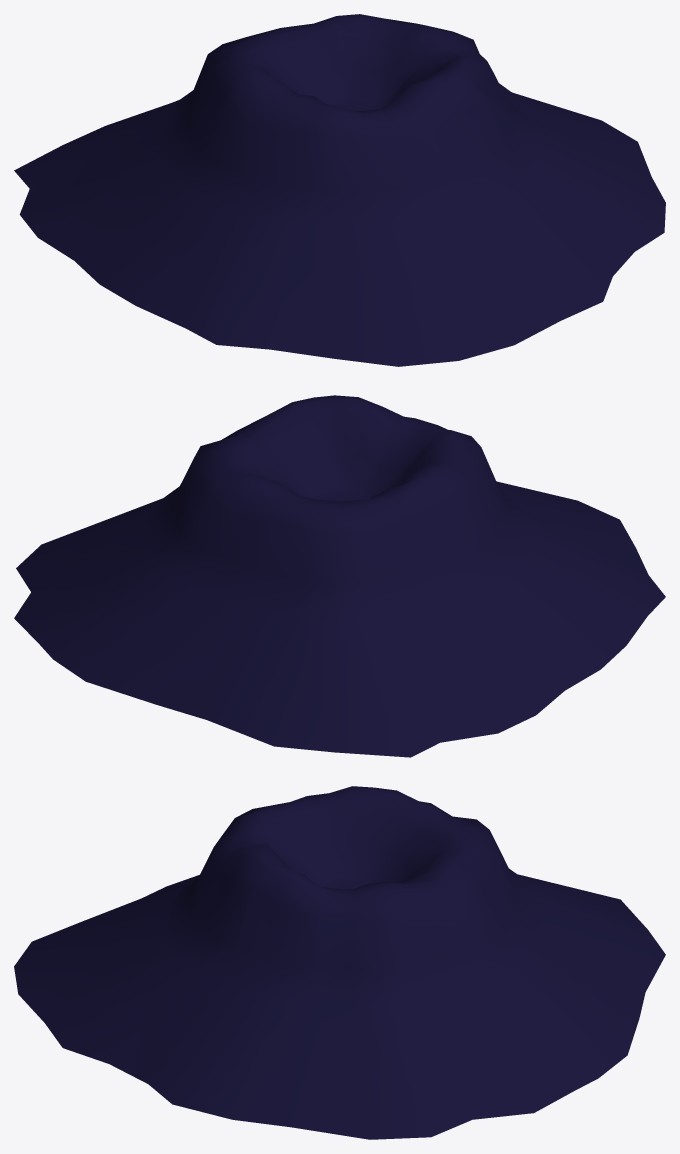
Rendered from Nid spawner bleu.fbx.
The picture shows the model from 3 angles, top to bottom: view 1: azimuth 30°, elevation 25°; view 2: azimuth 150°, elevation 25°; view 3: azimuth 270°, elevation 25°; orthographic projection.
Visible parts, largest first — view 1: Circle.001; view 2: Circle.001; view 3: Circle.001.
Boxes of the visible parts, box(x1,y1,x2,y2) form: Circle.001: box(14, 14, 665, 366); Circle.001: box(14, 395, 665, 757); Circle.001: box(14, 786, 665, 1139).
Size of the model in its own units: 11.2 by 3.25 by 11.61.
